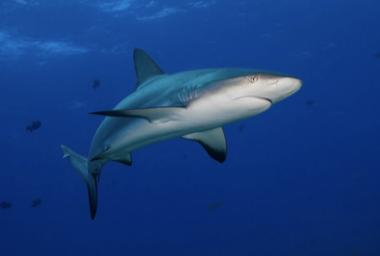Shark -Selachimorpha-: (57, 48, 304, 224)
